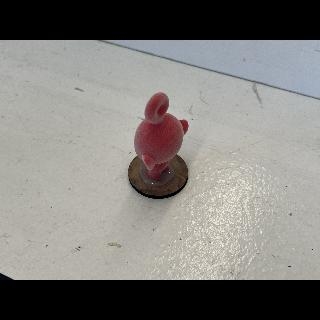teletubby: (134, 92, 189, 180)
